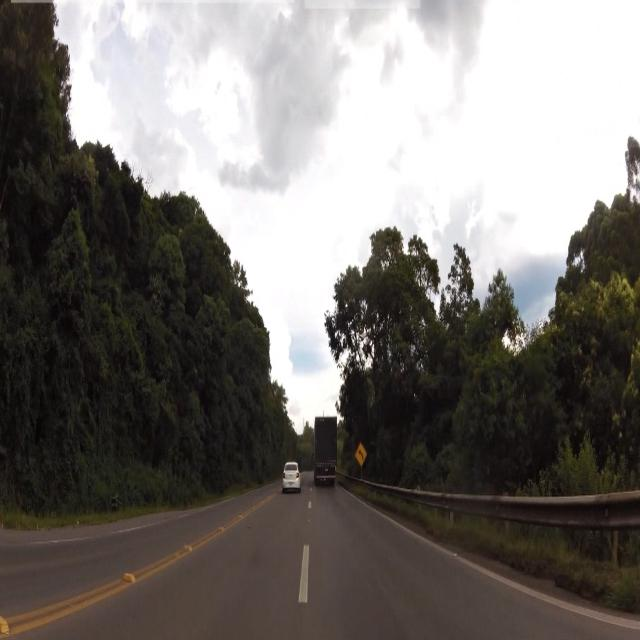A-2a: (353, 436, 370, 473)
